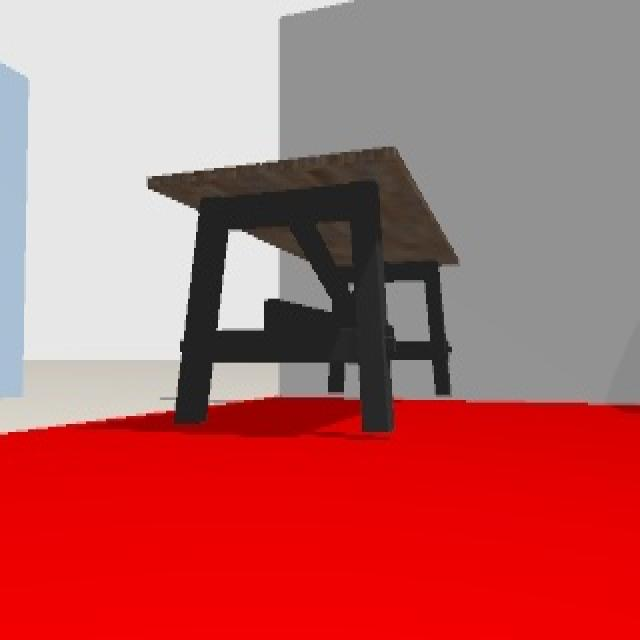dining: (145, 144, 459, 434)
